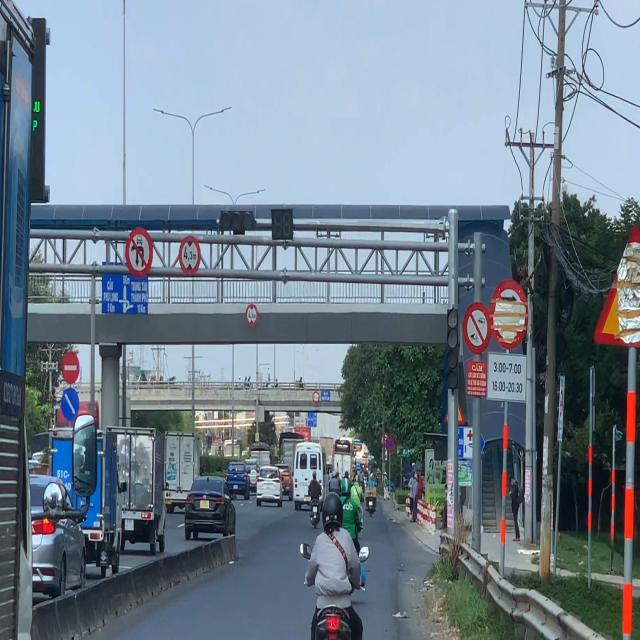Cam con lai: (462, 302, 492, 354)
Cam dung va do: (386, 436, 394, 452)
Cam nguoc chieu: (61, 351, 80, 384)
Chieu cao toi da: (178, 235, 200, 276), (245, 304, 258, 326), (312, 390, 320, 402)
Hieu lenh: (61, 387, 79, 421)
